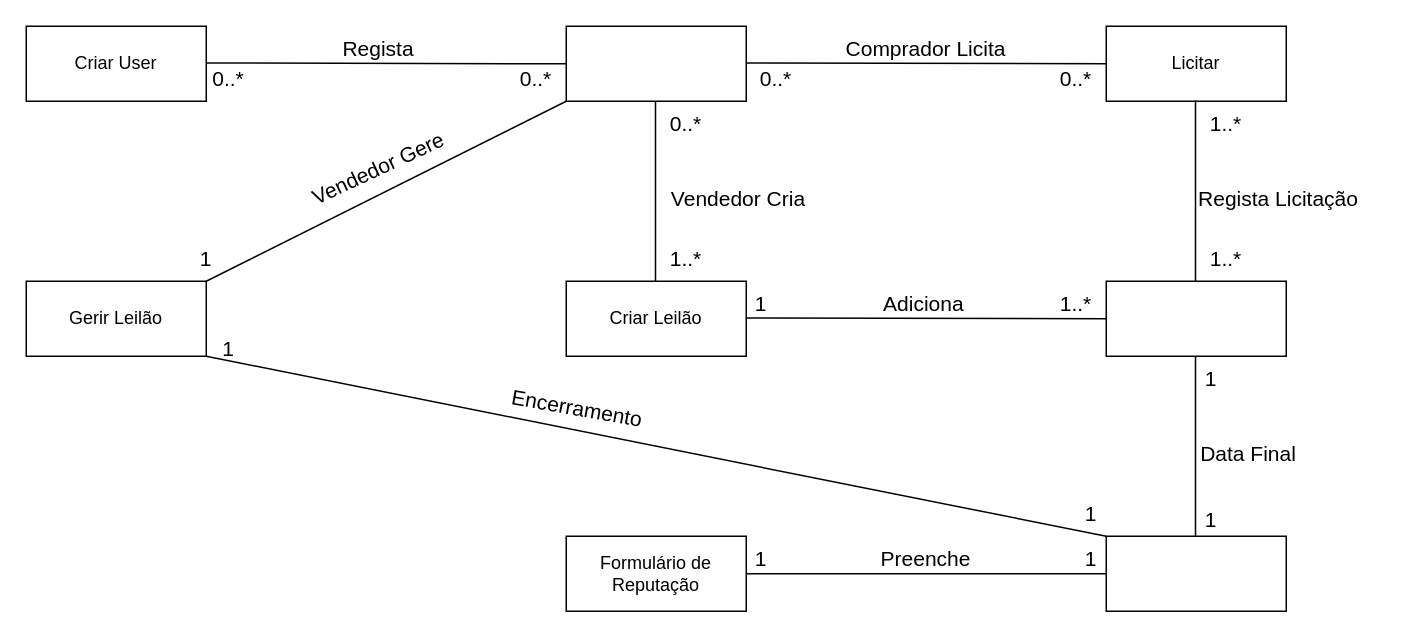
Image size: 1403x638. Some labels were removed from this diagram. The centre of each missing label's shape, as x and y in pixels:
Encerrar Leilão: (1195,573)
Iniciar Sessão: (655,63)
Leilão: (1195,318)
